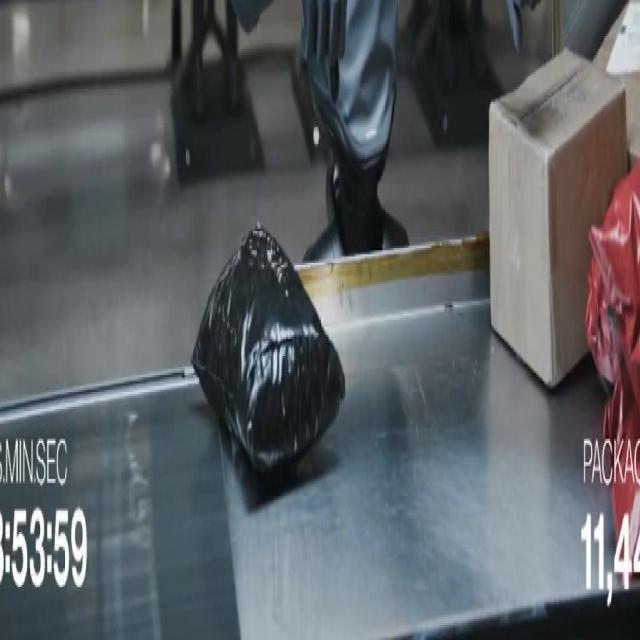package: (489, 49, 627, 387), (192, 225, 344, 472), (586, 166, 639, 555), (620, 68, 639, 167)
